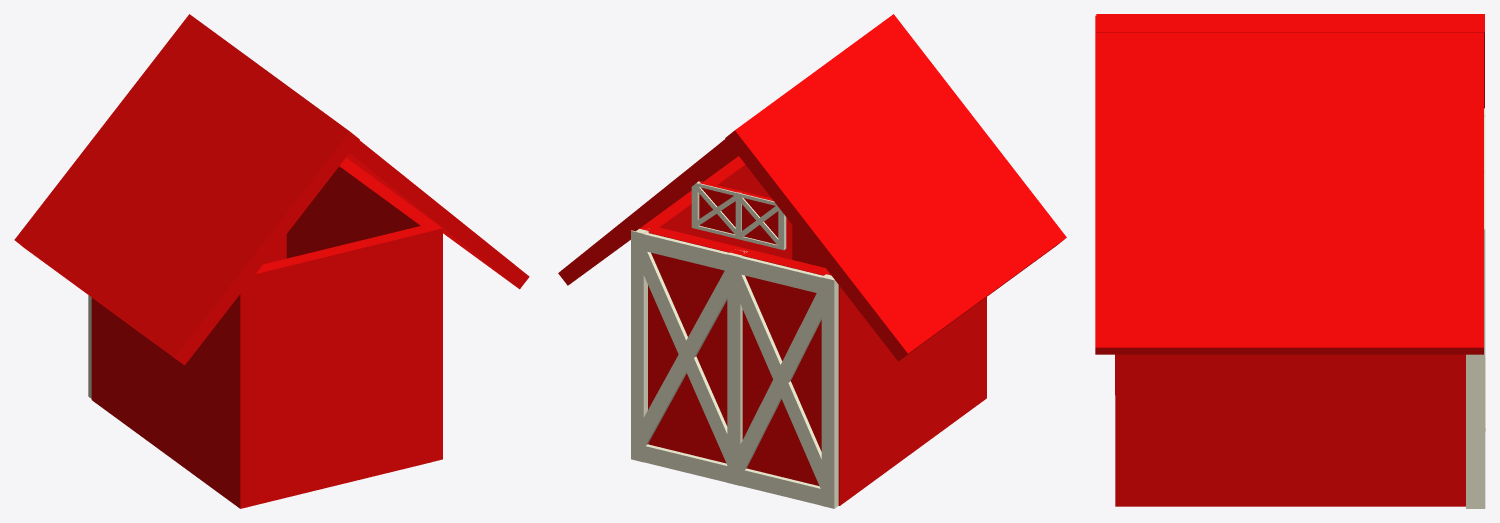
The model's file is Barn.fbx.
3 renders of one model, left to right at view 1: azimuth 30°, elevation 25°; view 2: azimuth 150°, elevation 25°; view 3: azimuth 270°, elevation 25°, orthographic. The views are drawn at different scales.
Visible parts, largest first — view 1: Left_Roof, BackWall, LeftWall, RightWall, RightRoof; view 2: Left_Roof, Front_Door, LeftWall, RightRoof, TopBeam, BottomBeam, LeftBeam, RightWall, CenterBeam, LeftBeam__3_, RightBeam, LeftBeam__4_ (+4 smaller); view 3: RightRoof, RightWall, Left_Roof, RightBeam.
Boxes of the visible parts, left/top/right/bottom form: Left_Roof: left=14, top=14, right=359, bottom=365; BackWall: left=254, top=226, right=431, bottom=505; LeftWall: left=91, top=276, right=254, bottom=508; RightWall: left=286, top=157, right=442, bottom=461; RightRoof: left=340, top=133, right=529, bottom=289; Left_Roof: left=725, top=14, right=1066, bottom=361; Front_Door: left=648, top=227, right=828, bottom=485; LeftWall: left=826, top=272, right=986, bottom=505; RightRoof: left=558, top=139, right=738, bottom=285; TopBeam: left=633, top=231, right=833, bottom=297; BottomBeam: left=633, top=443, right=833, bottom=508; LeftBeam: left=821, top=274, right=838, bottom=508; RightWall: left=639, top=156, right=792, bottom=409; CenterBeam: left=727, top=249, right=747, bottom=485; LeftBeam__3_: left=740, top=274, right=833, bottom=492; RightBeam: left=631, top=228, right=649, bottom=462; LeftBeam__4_: left=636, top=250, right=727, bottom=464; RightRoof: left=1095, top=15, right=1483, bottom=354; RightWall: left=1115, top=354, right=1465, bottom=506; Left_Roof: left=1096, top=14, right=1484, bottom=108; RightBeam: left=1466, top=222, right=1485, bottom=508.
Bounding box in the file's own units: 1484 × 1433 × 1170.
